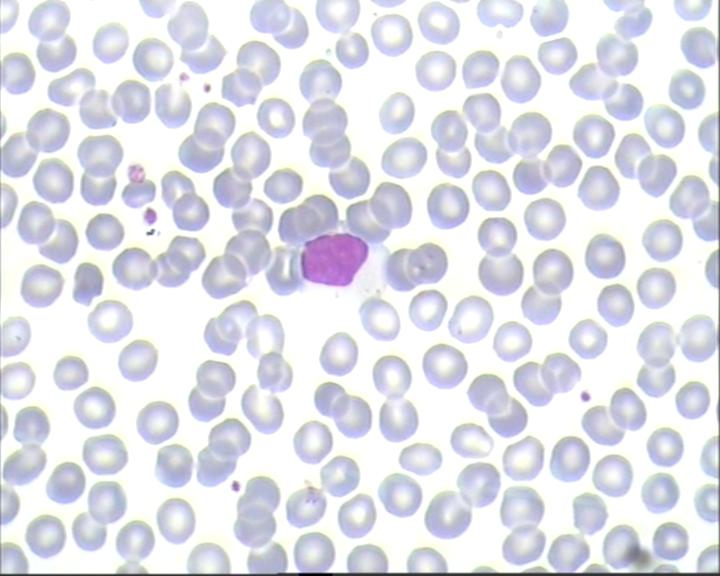lymp: (282, 228, 399, 302)
